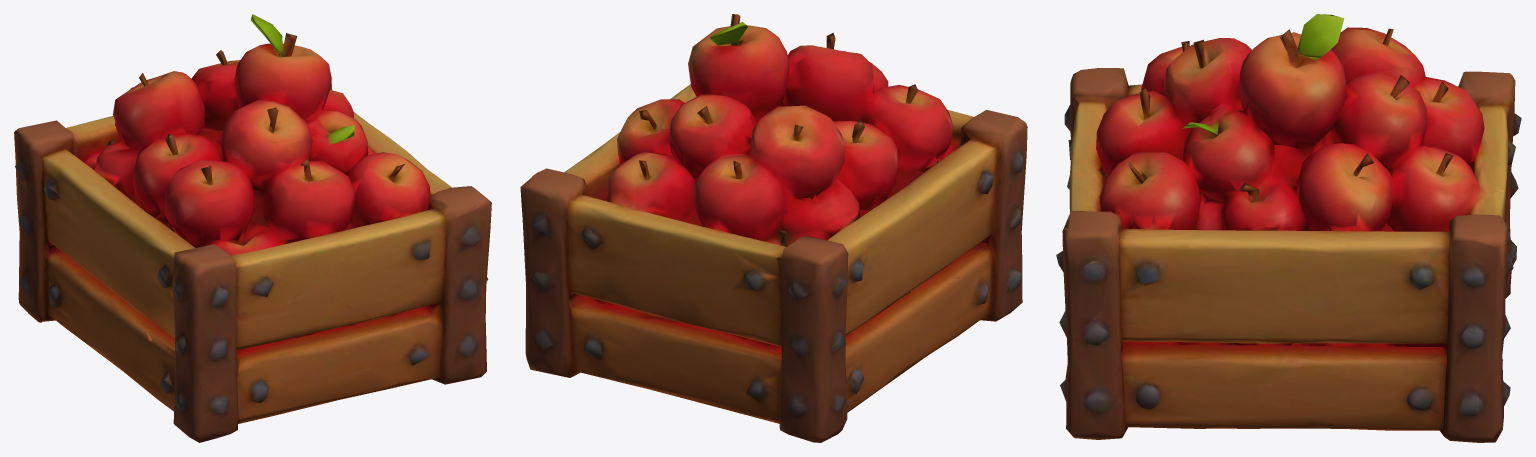
File: apple_crate.glb
3 views of the same model, side by side, from view 1: azimuth 30°, elevation 25°; view 2: azimuth 150°, elevation 25°; view 3: azimuth 270°, elevation 25° (orthographic). The views are drawn at different scales.
Parts seen in each view (by area): view 1: tripo_node_6150b765-ad09-40f6-9f7e-a1c0dfcc375e; view 2: tripo_node_6150b765-ad09-40f6-9f7e-a1c0dfcc375e; view 3: tripo_node_6150b765-ad09-40f6-9f7e-a1c0dfcc375e.
Part boxes in pixels (x1=…): tripo_node_6150b765-ad09-40f6-9f7e-a1c0dfcc375e: x1=14, y1=14, x2=491, y2=442; tripo_node_6150b765-ad09-40f6-9f7e-a1c0dfcc375e: x1=520, y1=14, x2=1027, y2=442; tripo_node_6150b765-ad09-40f6-9f7e-a1c0dfcc375e: x1=1056, y1=14, x2=1521, y2=442.
Size of the model in its own units: 0.4249 by 0.3999 by 0.4701.
1 material, 1 textured.
